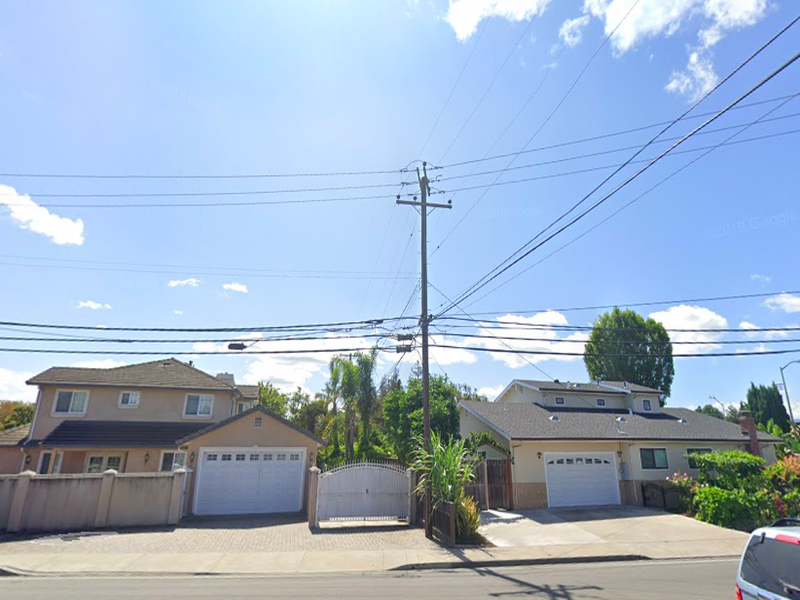utility_pole: (391, 152, 457, 230)
